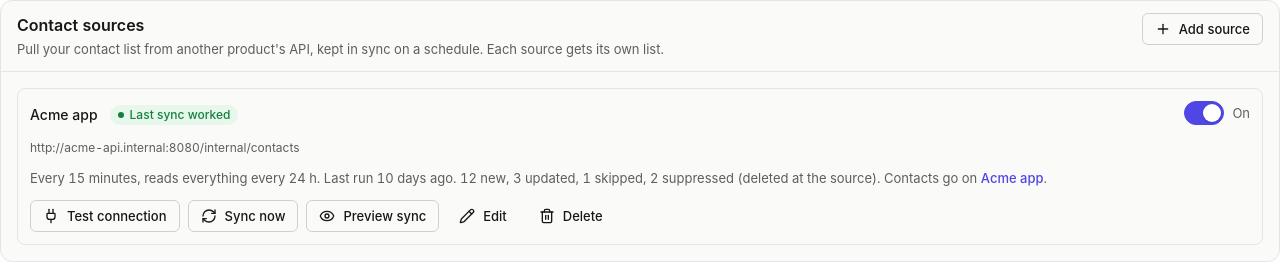
it: row actions › Test connection on a saved source sends its id and shows the result
Click the button with aria-label "Test connection Acme app".
click(105, 216)  # box [30,200,180,232]
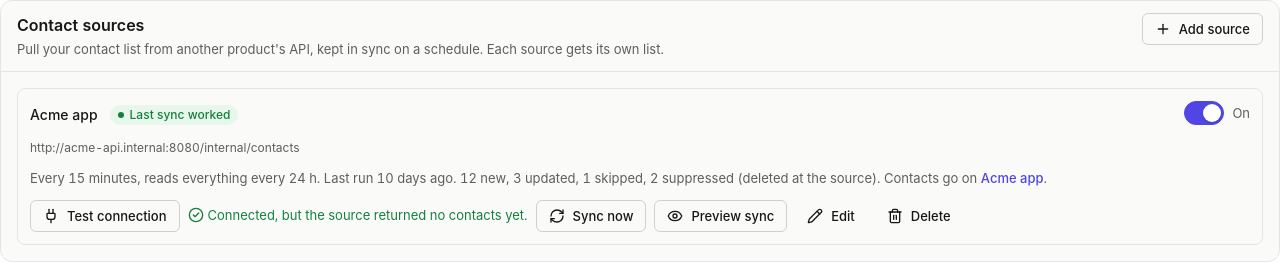
Expected: the text "Connected, but the source returned no contacts yet." is shown, [188,204,528,224]
